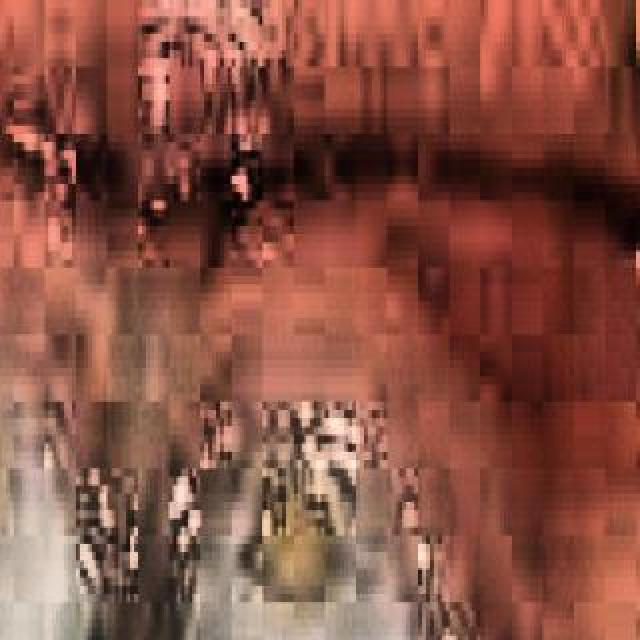cavities: (236, 481, 346, 611), (0, 412, 20, 638)
spacing: (74, 518, 208, 640)
